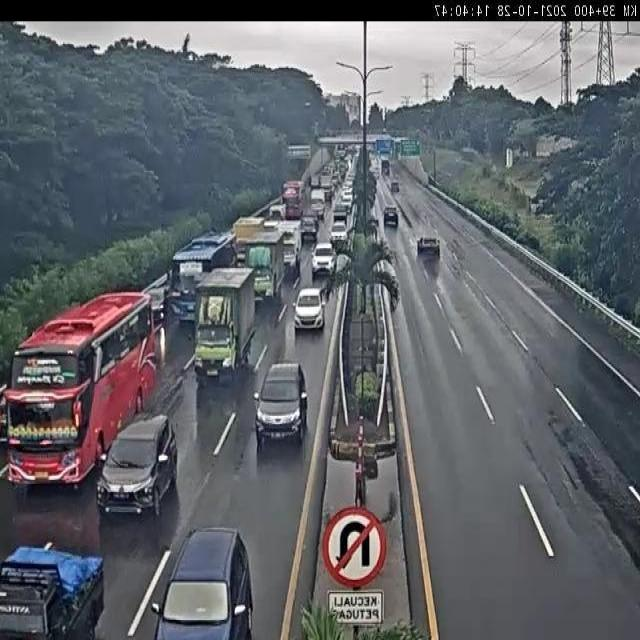Car: (0, 543, 104, 640), (97, 413, 179, 520), (311, 242, 337, 277), (330, 221, 350, 255), (416, 234, 440, 255), (383, 206, 399, 227)
Truck: (174, 247, 276, 402), (152, 526, 254, 638), (10, 484, 100, 558), (170, 233, 236, 321), (237, 226, 294, 301), (231, 216, 266, 263), (168, 276, 198, 325), (293, 288, 325, 331), (144, 286, 168, 324), (282, 181, 304, 220), (180, 264, 205, 298), (319, 264, 337, 303), (421, 250, 442, 281), (300, 213, 318, 246), (355, 468, 369, 510), (370, 135, 394, 159), (332, 203, 350, 232), (0, 384, 9, 440), (372, 258, 393, 282), (310, 189, 326, 219), (316, 136, 358, 147), (362, 453, 378, 481), (342, 178, 355, 208), (168, 262, 180, 293), (367, 170, 377, 207), (335, 253, 351, 275), (374, 444, 395, 460), (389, 282, 400, 312), (343, 145, 358, 165), (360, 150, 372, 175), (269, 203, 285, 221), (169, 287, 183, 307), (376, 352, 385, 383), (460, 146, 481, 159), (393, 138, 408, 155), (224, 230, 238, 248), (321, 167, 333, 187), (311, 254, 322, 275), (263, 220, 282, 232), (529, 200, 544, 215), (370, 158, 381, 178), (323, 184, 334, 203), (236, 245, 247, 264), (370, 201, 379, 224), (368, 214, 378, 234), (331, 170, 341, 190), (310, 174, 322, 189), (326, 200, 335, 220), (335, 146, 346, 161), (343, 156, 352, 174), (320, 287, 328, 307), (312, 120, 320, 140), (320, 128, 334, 139), (303, 175, 312, 192), (381, 156, 390, 172), (367, 140, 377, 154), (506, 148, 513, 168), (313, 132, 323, 145), (390, 181, 400, 193), (427, 173, 436, 186), (422, 171, 429, 187), (519, 149, 529, 160), (452, 252, 458, 263), (382, 127, 387, 134)
